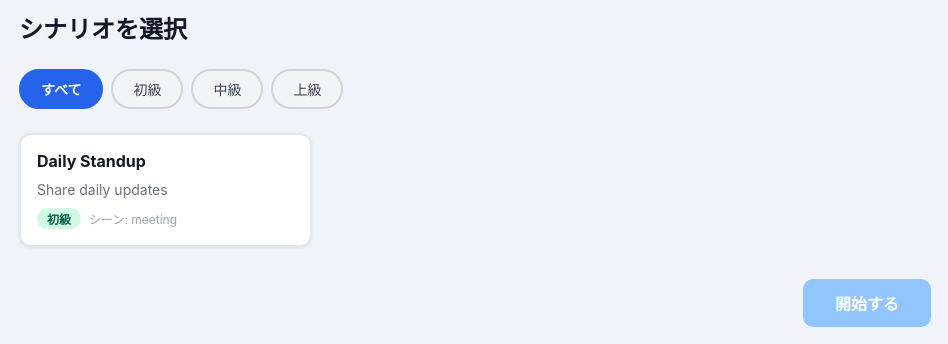
it: Placeholder Pages › SessionNewPage shows isStarting state when starting session
Click the heading "Daily Standup".
click(91, 161)  # box [37, 151, 146, 171]
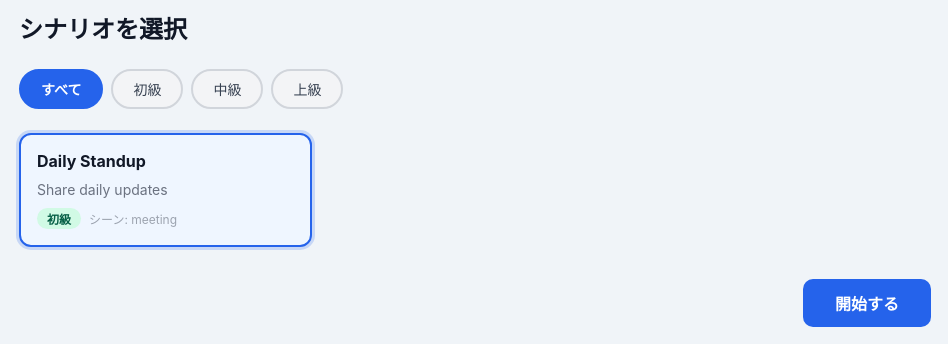
Click the button "開始する".
click(867, 303)  # box [803, 279, 931, 327]
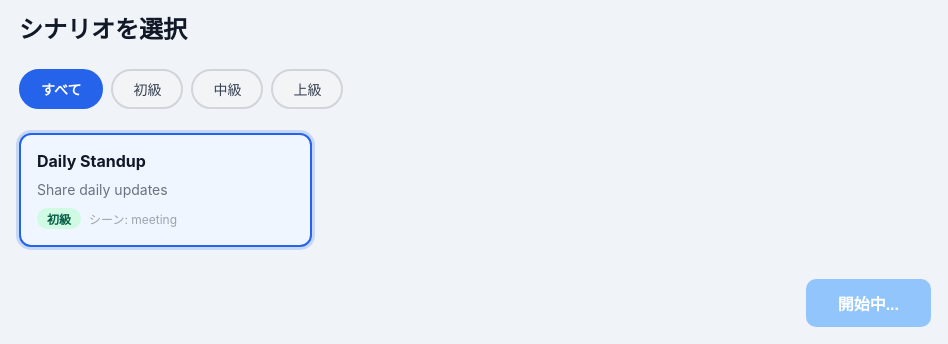
Now the button "開始中..." is shown, box [806, 279, 931, 327]
